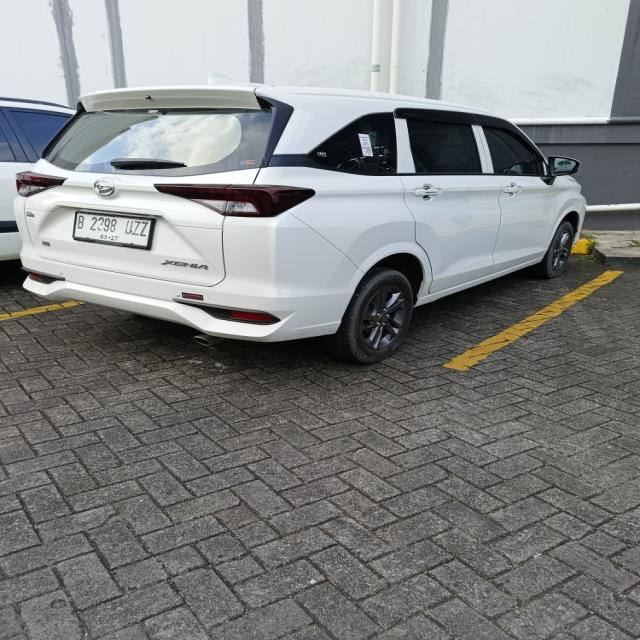plates: (64, 208, 156, 248)
